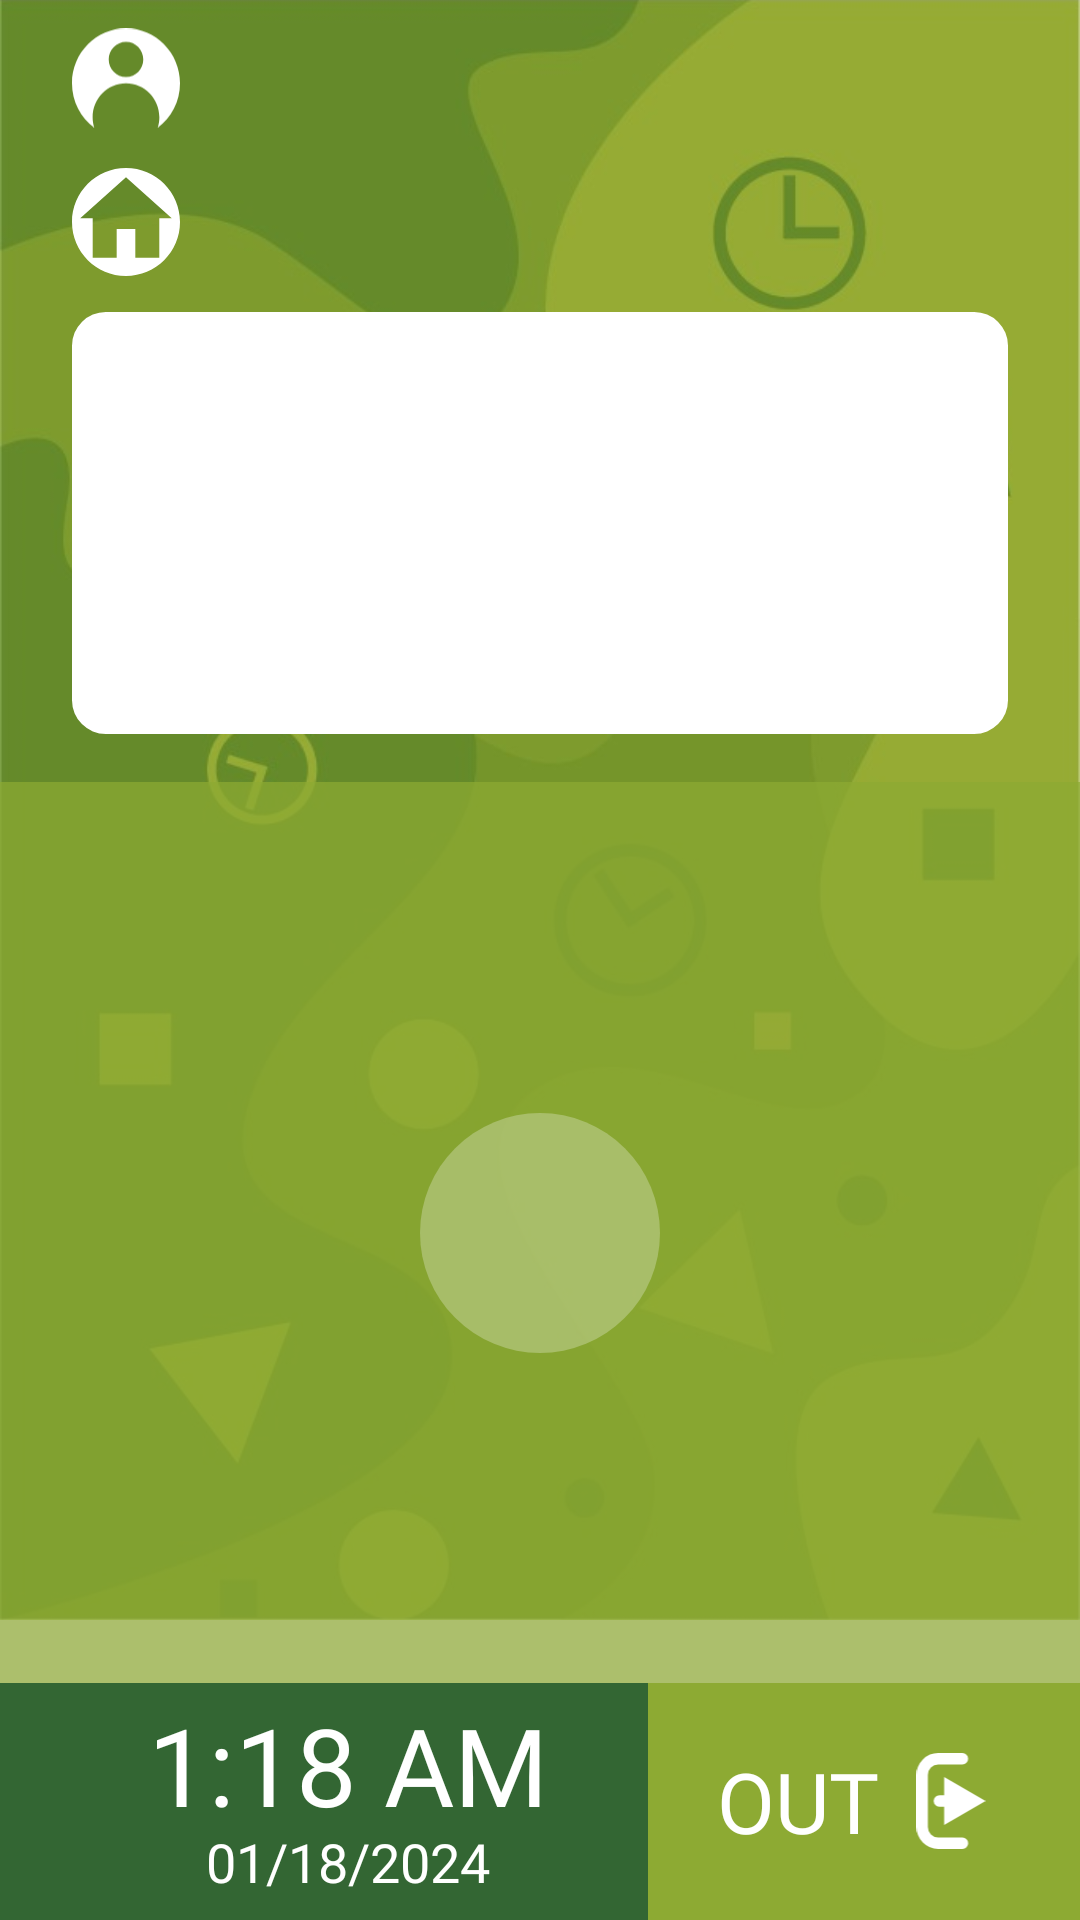

Screen size 1080 x 1920. Icon name, then its center in pixels as (x,y):
home: (126,222)
user: (126,78)
